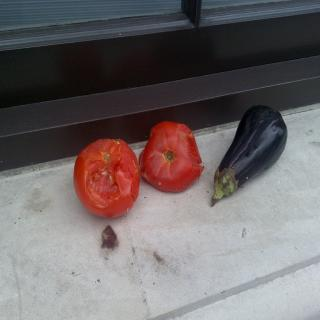tomato: (69, 130, 145, 218), (138, 122, 207, 191)
